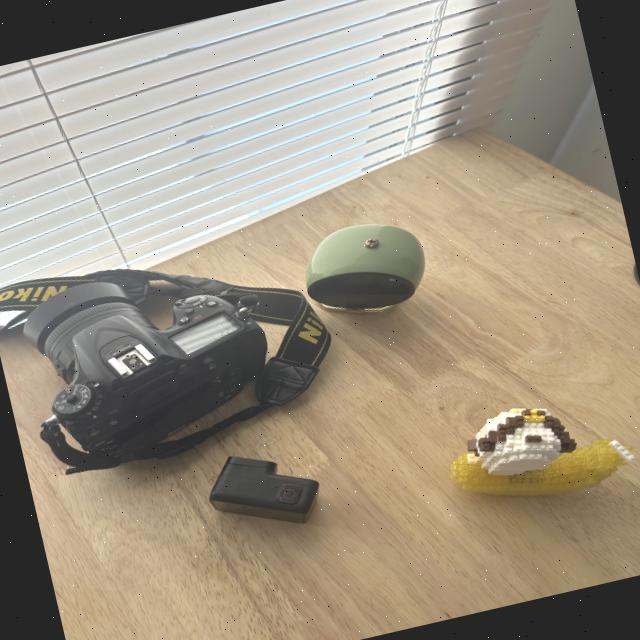actioncam: (166, 418, 356, 556)
camera: (0, 209, 358, 503)
clock: (281, 205, 445, 333)
toy: (411, 357, 640, 552)
